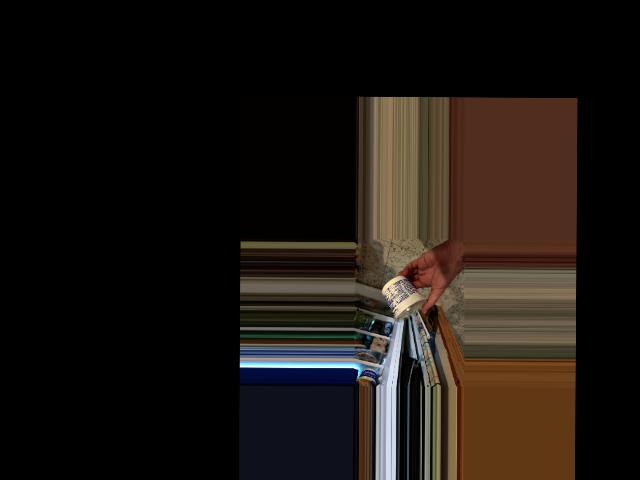cotage: (388, 281, 423, 323)
